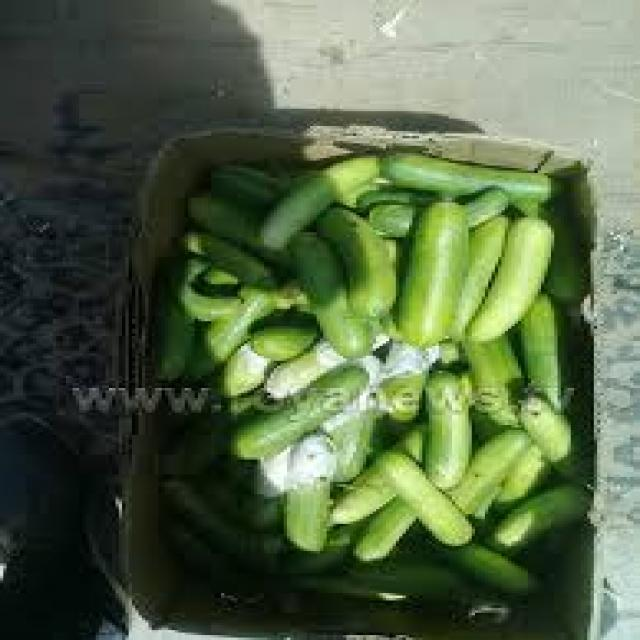organic waste: (185, 193, 369, 356), (224, 360, 363, 454), (254, 156, 379, 250), (366, 445, 475, 546), (392, 198, 468, 341), (462, 215, 548, 339), (376, 148, 561, 203), (175, 284, 270, 386), (314, 203, 392, 316), (442, 210, 508, 339), (330, 420, 416, 517), (152, 507, 247, 593), (155, 467, 244, 556), (478, 482, 584, 553), (511, 286, 574, 402), (208, 163, 320, 225), (324, 354, 379, 479), (515, 388, 587, 479), (366, 188, 512, 232), (448, 425, 524, 509), (419, 368, 468, 492), (277, 428, 327, 548), (343, 556, 478, 600), (458, 333, 524, 422), (172, 230, 270, 284), (445, 541, 541, 593), (260, 338, 340, 396), (287, 571, 412, 608), (218, 566, 386, 593), (152, 257, 188, 383), (168, 252, 238, 314), (376, 341, 432, 418), (538, 193, 577, 301), (274, 166, 376, 205), (152, 405, 218, 465), (327, 393, 372, 479), (350, 499, 412, 561), (488, 444, 548, 502), (208, 341, 270, 393), (277, 522, 347, 568), (247, 319, 317, 358), (346, 185, 439, 210), (238, 489, 287, 529), (376, 341, 429, 373), (238, 526, 284, 548), (432, 339, 462, 368)
